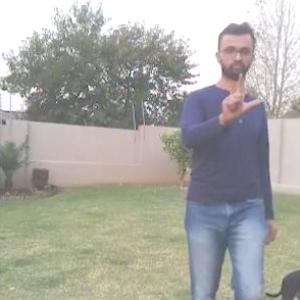land_hand: (218, 66, 264, 120)
